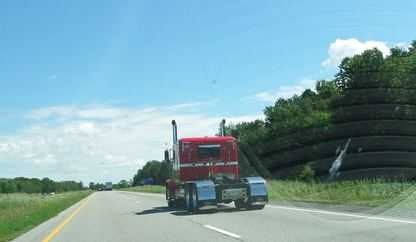truck: (164, 130, 263, 209)
